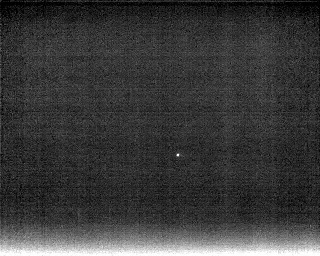BIRD: (173, 150, 182, 161)
